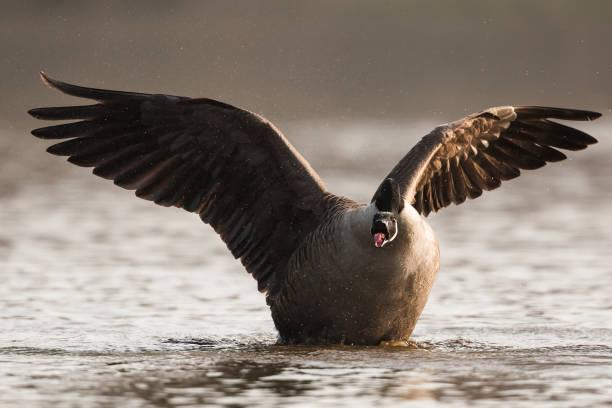Canadian-Goose: (25, 67, 601, 350)
